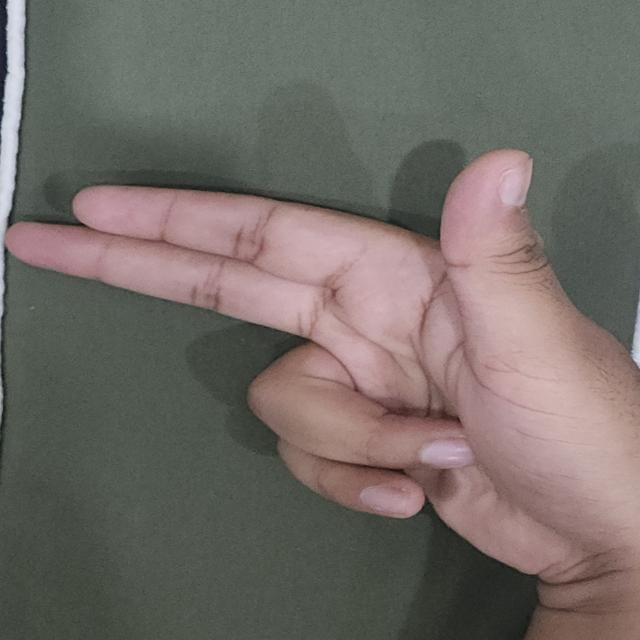ج: (3, 125, 640, 601)
